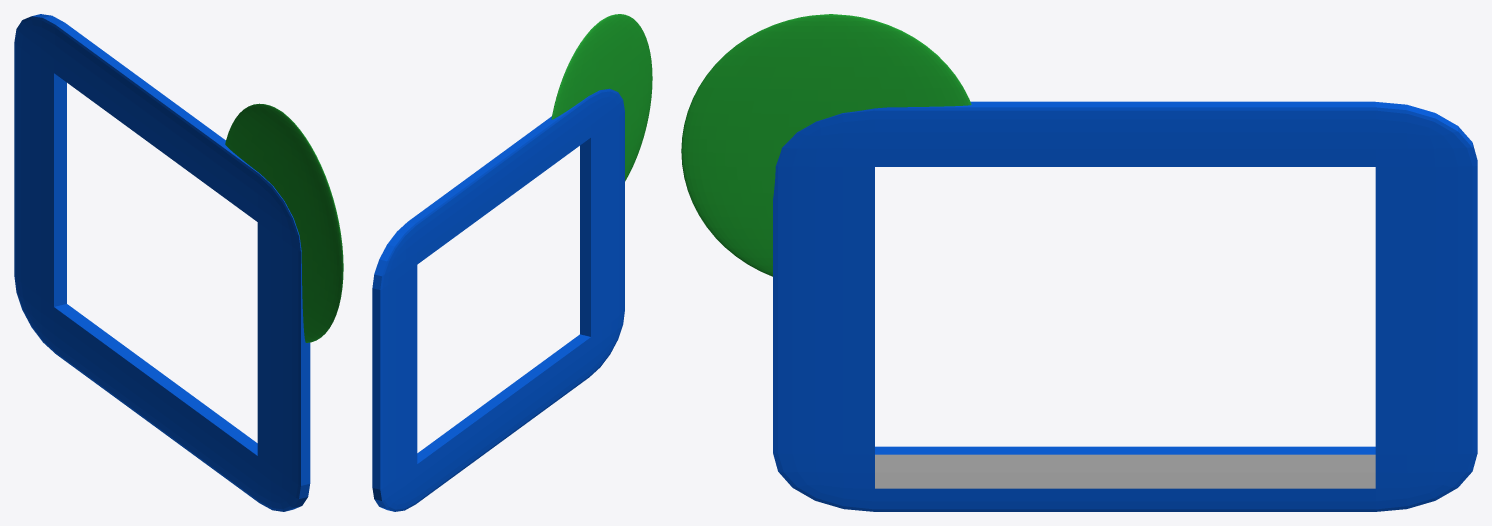
The model's file is PhotoFrame.fbx.
The picture shows the model from 3 angles, left to right: view 1: azimuth 30°, elevation 25°; view 2: azimuth 150°, elevation 25°; view 3: azimuth 270°, elevation 25°; orthographic projection. The views are drawn at different scales.
Visible parts, largest first — view 1: Cube, Sphere; view 2: Cube, Sphere; view 3: Cube, Sphere.
Boxes of the visible parts, x1=… form: Cube: x1=14, y1=14, x2=310, y2=511; Sphere: x1=225, y1=103, x2=343, y2=342; Cube: x1=372, y1=88, x2=624, y2=511; Sphere: x1=551, y1=14, x2=652, y2=181; Cube: x1=773, y1=101, x2=1477, y2=511; Sphere: x1=681, y1=14, x2=971, y2=276.
Bounding box in the file's own units: 8.22 × 244 × 355.
